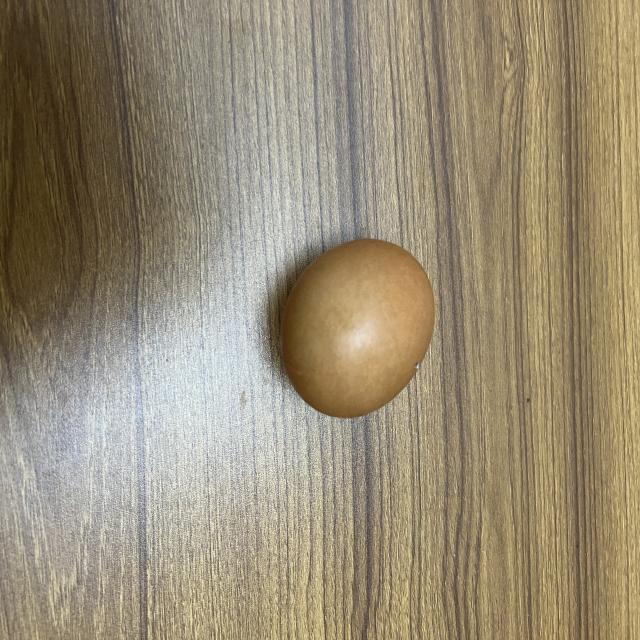egg: (273, 227, 451, 426)
